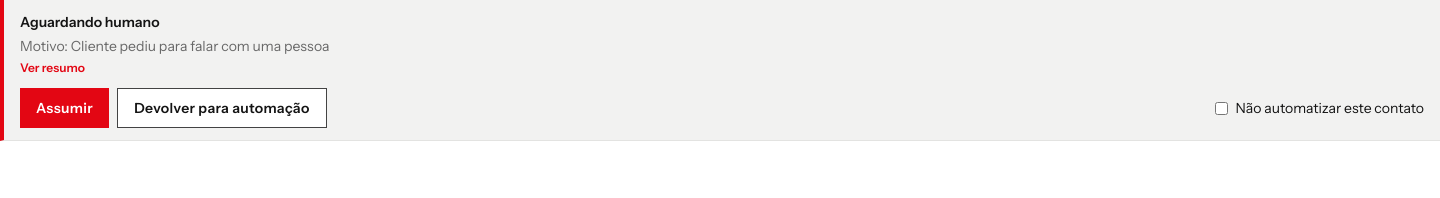
Scenario: HandoffBanner › shows reason and collapsible summary when awaiting a human
expect the text "Aguardando humano" is shown: met, box top-left (20, 13), bottom-right (160, 31)
expect the text "Motivo: Cliente pediu para falar com uma pessoa" is shown: met, box top-left (20, 37), bottom-right (330, 55)
Click the button "Ver resumo". click: (52, 68)
box: top-left (20, 60), bottom-right (85, 76)
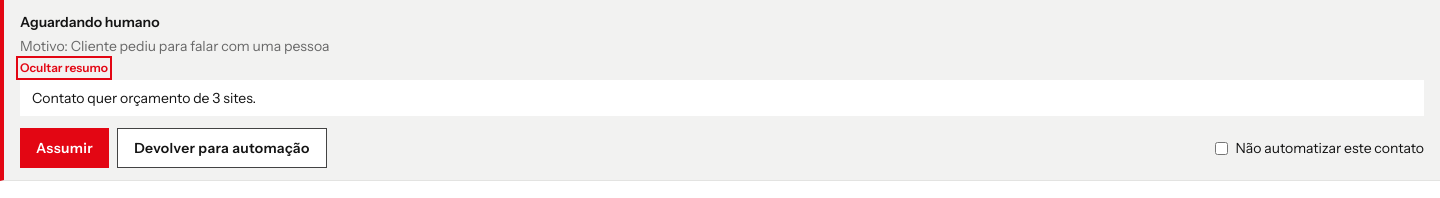
expect the text "Contato quer orçamento de 3 sites." is shown: met, box top-left (20, 80), bottom-right (1424, 116)
